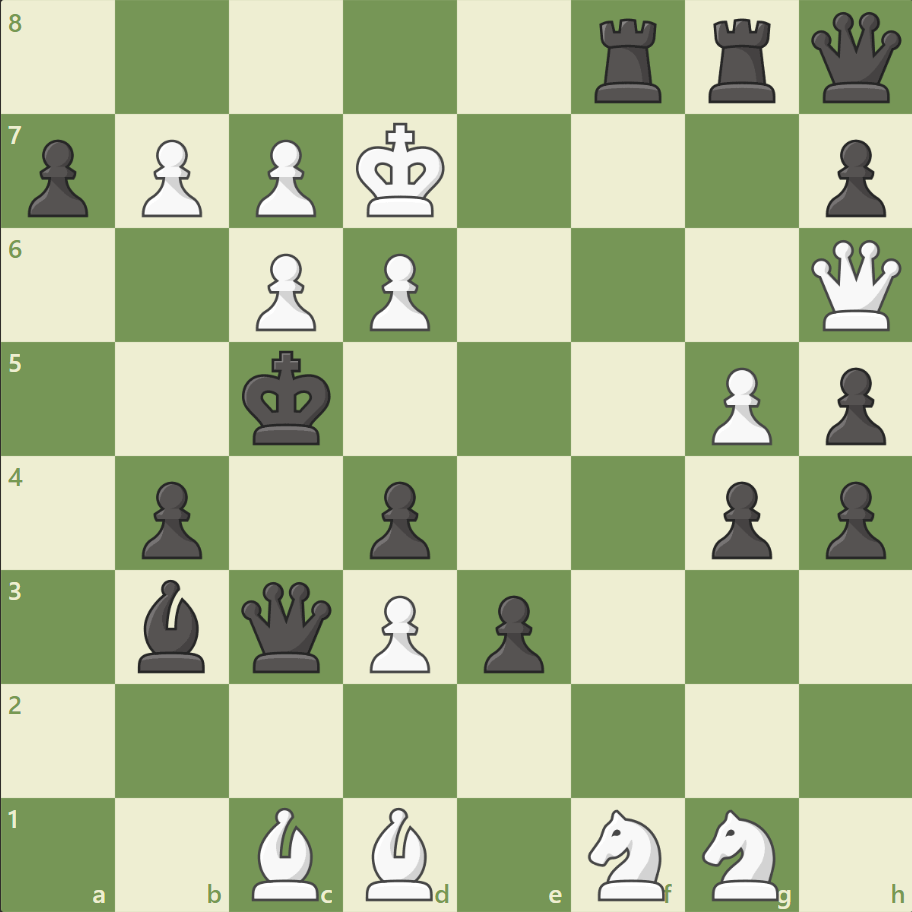B: (244, 801, 328, 904), (358, 801, 442, 904)
K: (351, 117, 451, 225)
N: (579, 802, 676, 904), (692, 802, 789, 904)
P: (133, 132, 208, 223), (247, 132, 322, 223), (247, 246, 322, 337), (701, 359, 776, 450), (361, 246, 435, 337), (361, 586, 435, 677)
Q: (805, 236, 904, 335)
b: (131, 574, 215, 676)
k: (238, 344, 338, 452)
p: (20, 132, 95, 223), (133, 473, 208, 564), (701, 473, 776, 564), (474, 586, 549, 677), (815, 132, 889, 223), (815, 359, 889, 450), (361, 473, 435, 564), (815, 473, 889, 564)
q: (237, 576, 336, 676), (805, 9, 904, 108)
r: (587, 12, 670, 109), (700, 12, 783, 109)
